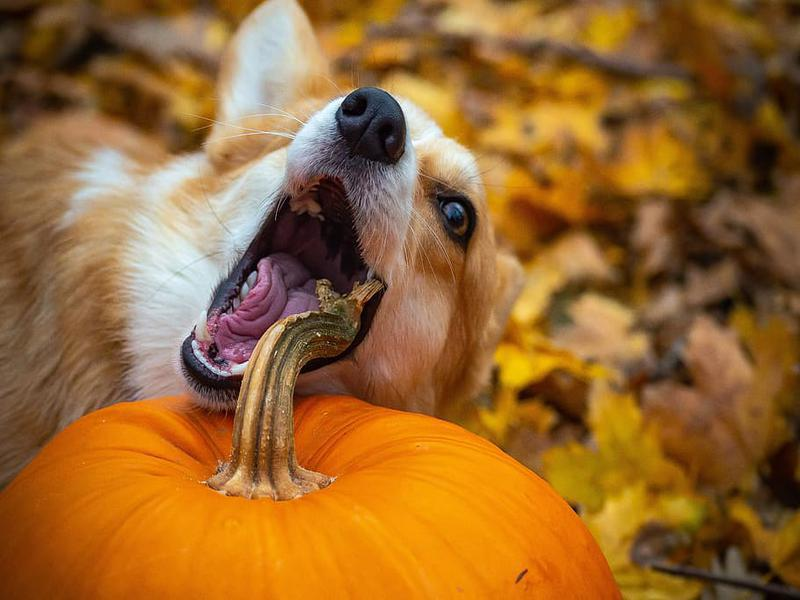corgi: (194, 3, 491, 404)
